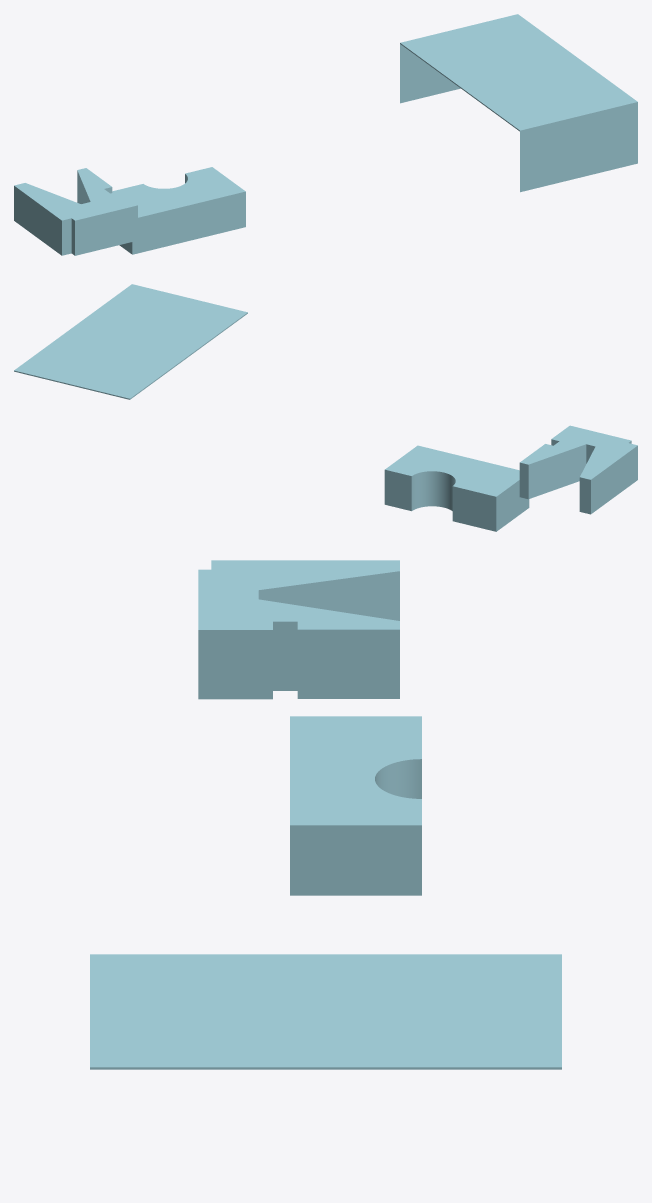
File: civic.gltf
3 views of the same model, one above another, from view 1: azimuth 30°, elevation 25°; view 2: azimuth 150°, elevation 25°; view 3: azimuth 270°, elevation 25° (orthographic). The views are drawn at different scales.
Size of the model in its own units: 150 by 20.85 by 57.28.
